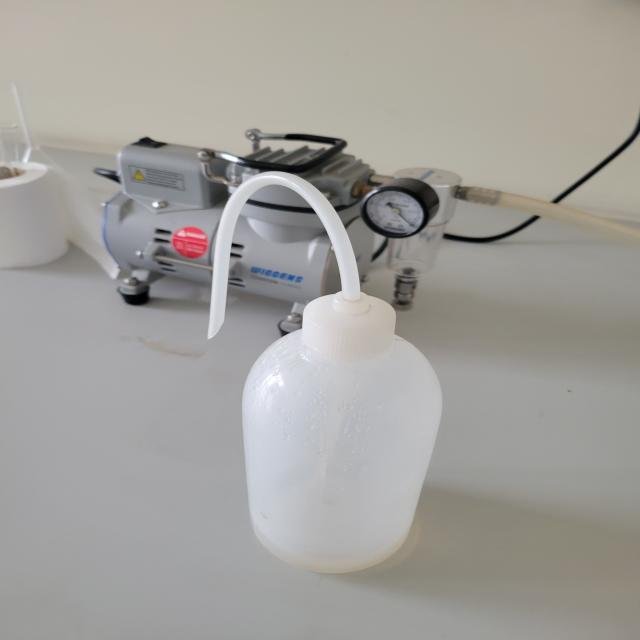Wash_Bottle: (165, 124, 474, 593)
